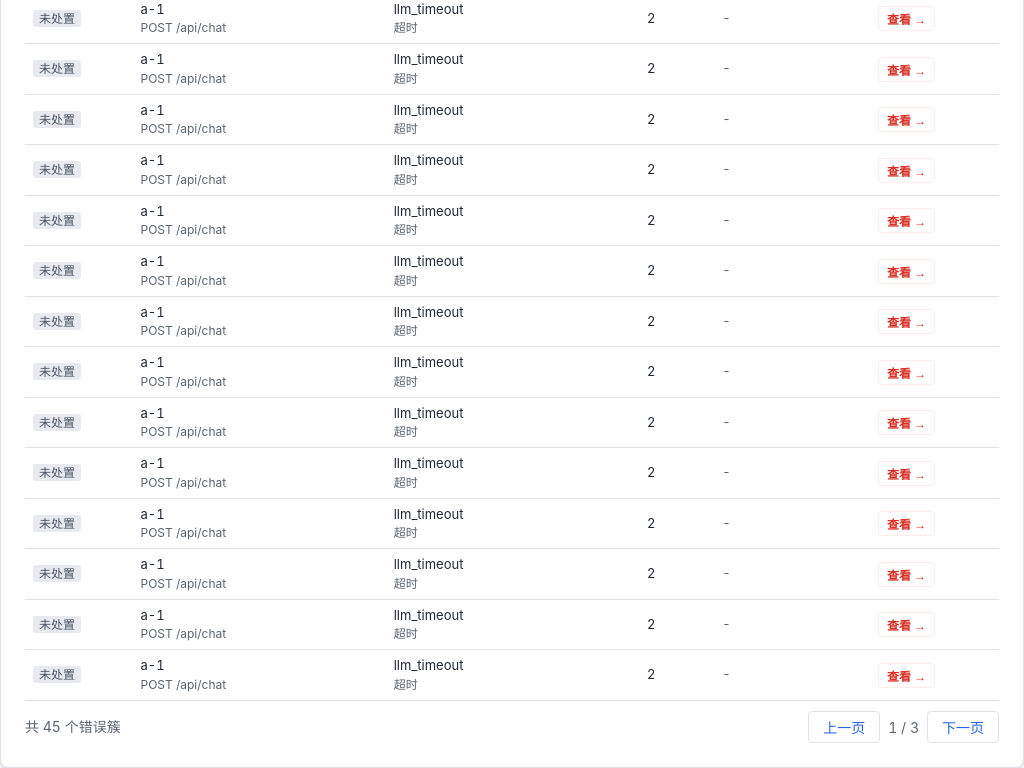
Scenario: 分页 › 首页「上一页」禁用；末页「下一页」禁用
(page scrolled)
Expected: the button "上一页" is disabled, [808,711,880,743]
Click the button "下一页". click: x=963, y=727
box: [927,711,999,743]
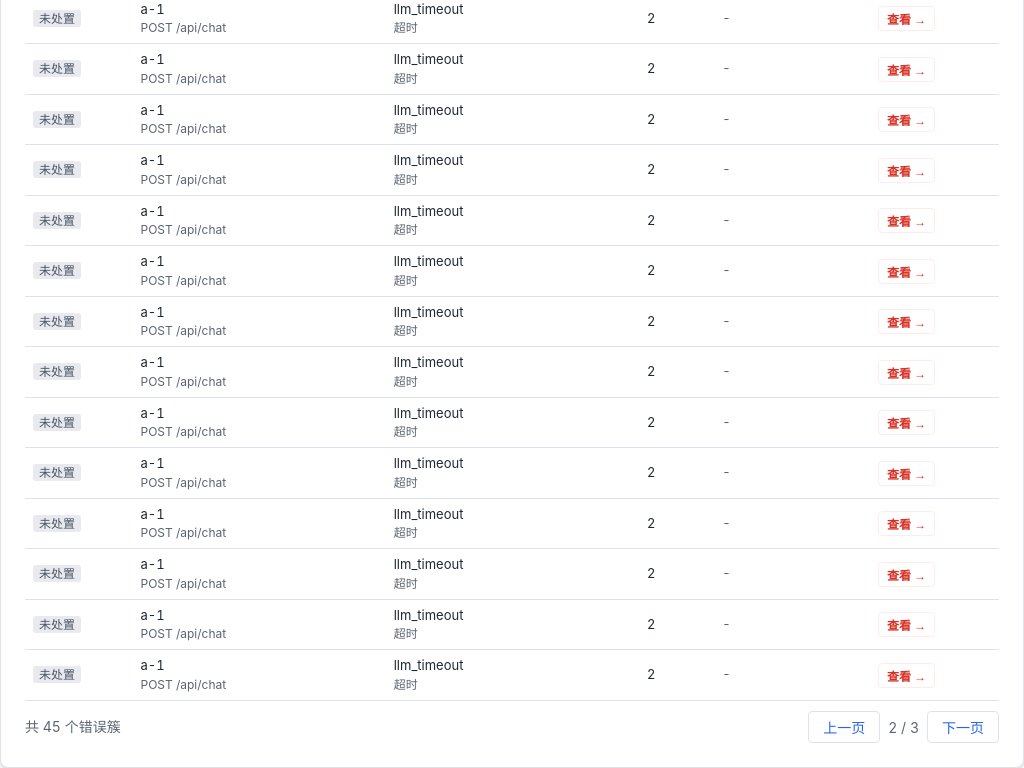
Click the button "下一页". click: x=963, y=727
box: [927,711,999,743]
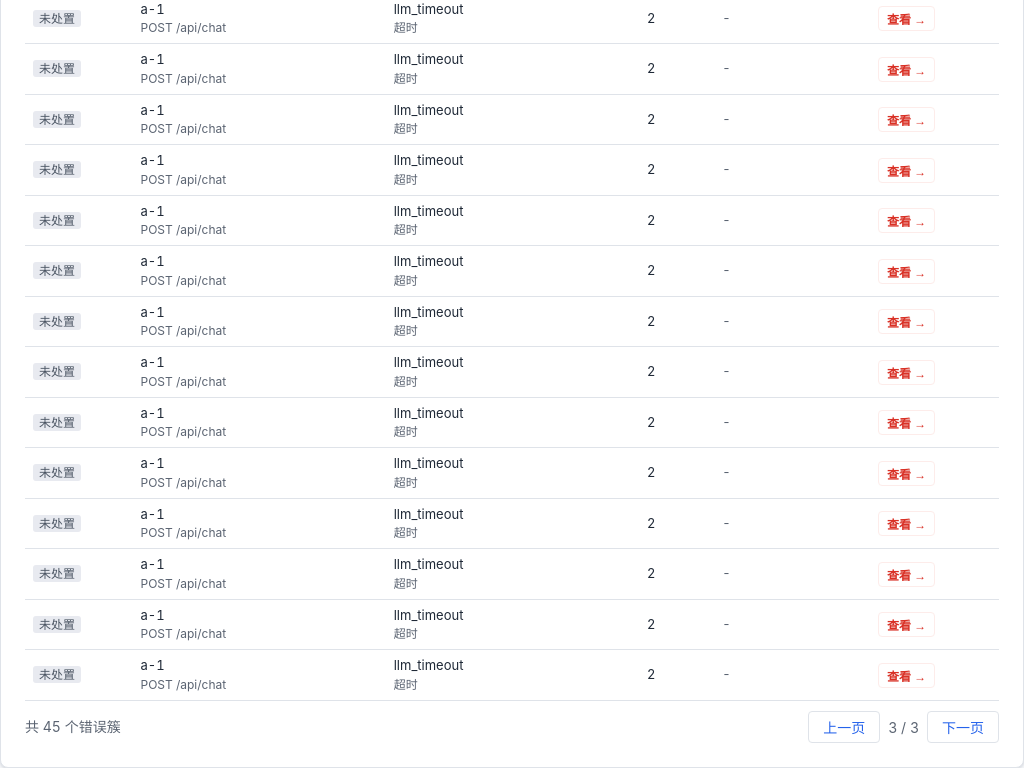
Expected: the text "3 / 3" is shown, [888,719,919,736]
